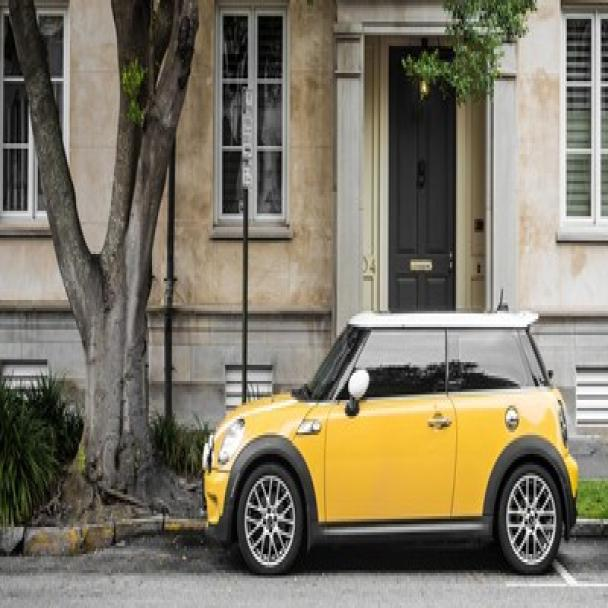Mobil: (199, 309, 579, 566)
